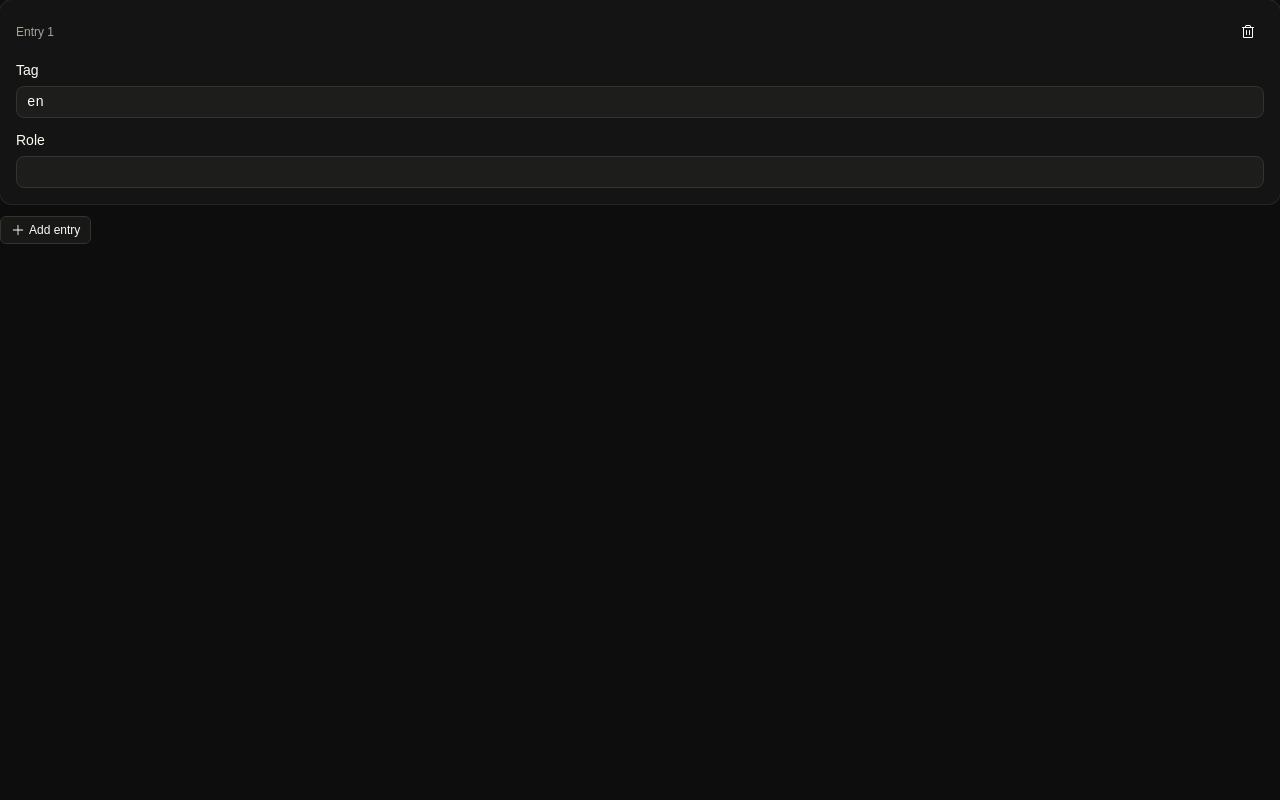
RepeatableCards - confirming a removal › does not touch the draft on the trash icon alone - it opens a confirmation first
The width and height of the screenshot is (1280, 800).
Click the button named "Remove entry 1".
click(1248, 32)  # box x1=1232 y1=16 x2=1264 y2=48
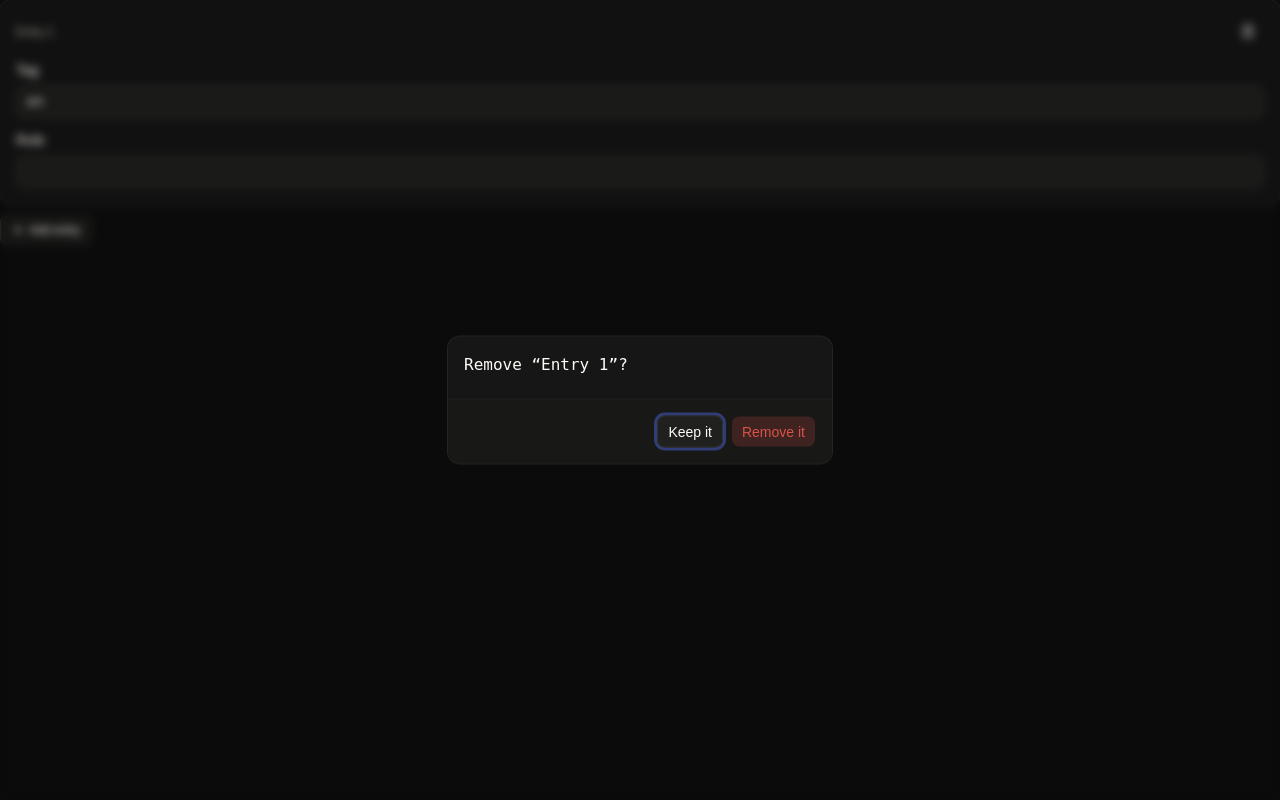
Expected: the dialog is shown, x1=448 y1=336 x2=832 y2=464
